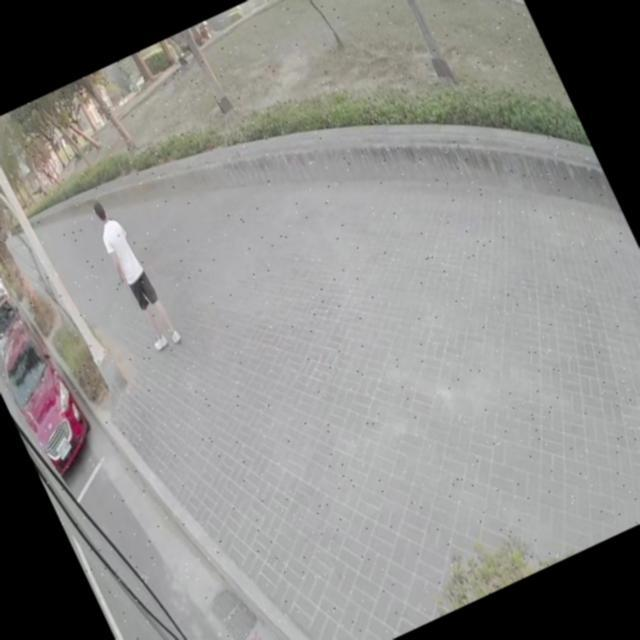person: (84, 196, 184, 363)
